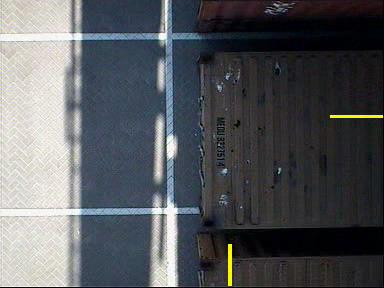groundmarker_2: (140, 17, 205, 59), (139, 160, 204, 202)
